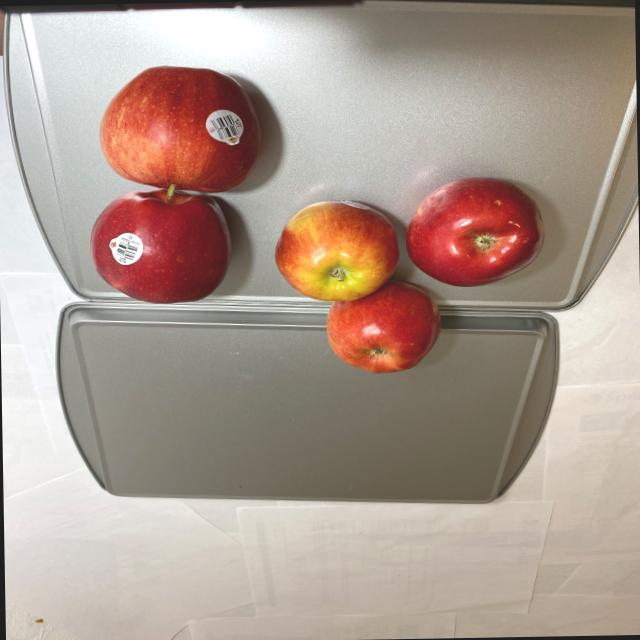apple: (273, 175, 555, 378), (77, 59, 267, 308)
